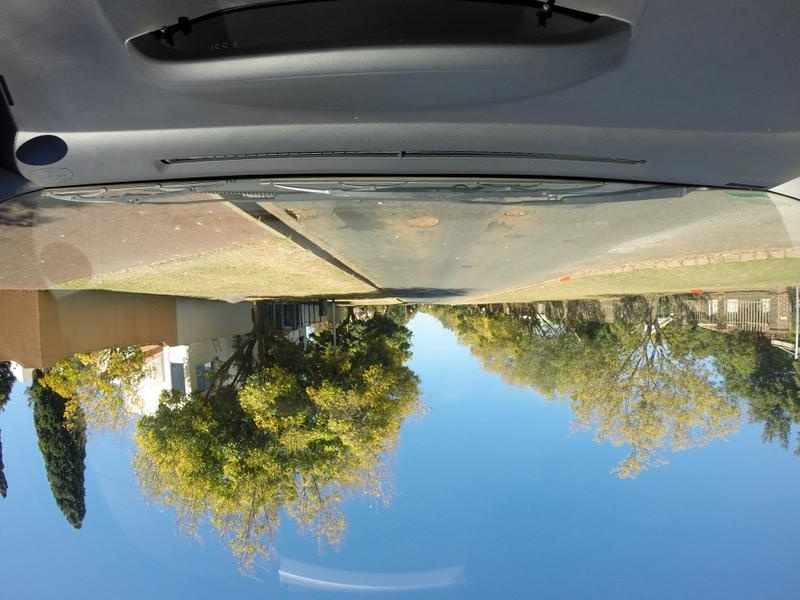pothole: (404, 213, 452, 232), (283, 204, 316, 221), (502, 205, 534, 222)
